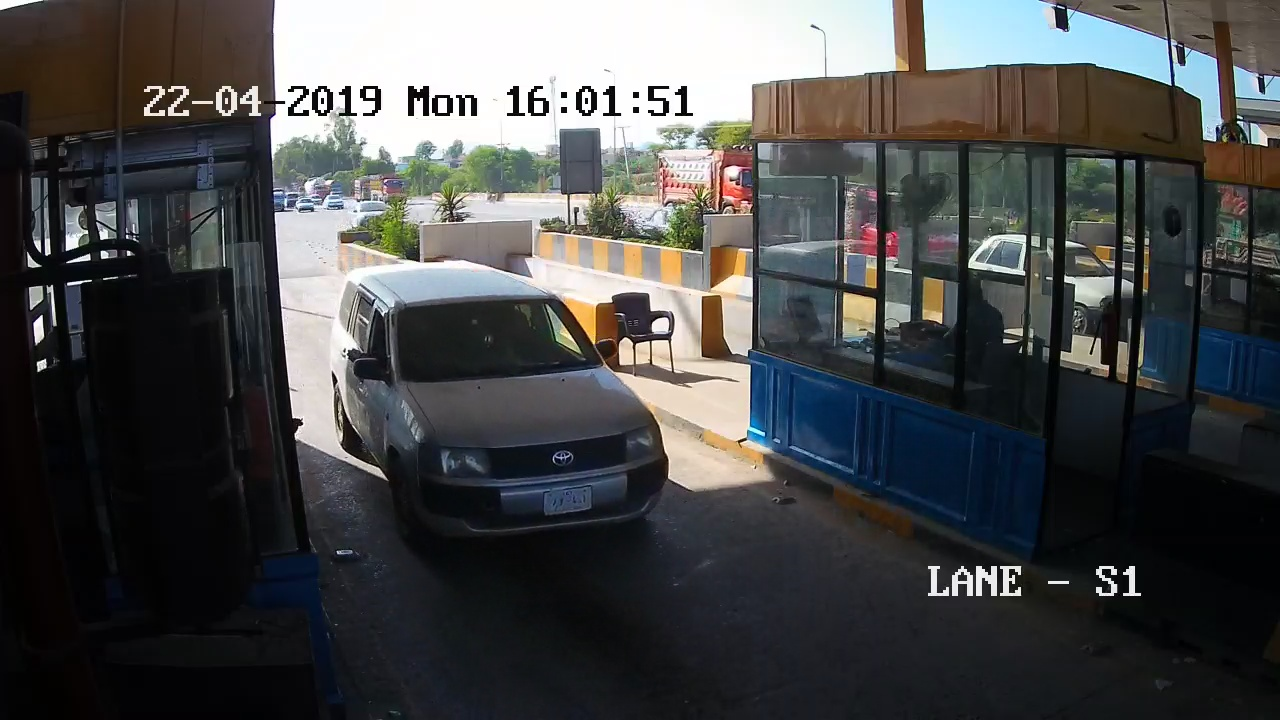Number Plate (Car): (542, 487, 592, 514)
